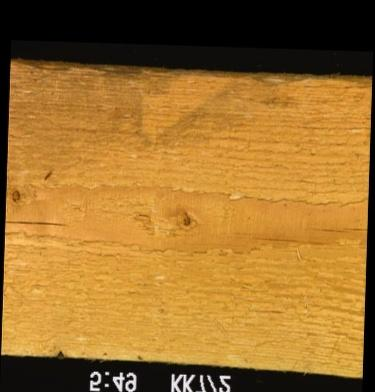dry_knot: (7, 186, 21, 206)
split: (248, 235, 302, 244), (4, 219, 71, 226), (315, 226, 366, 233)
wave: (9, 66, 371, 79)
